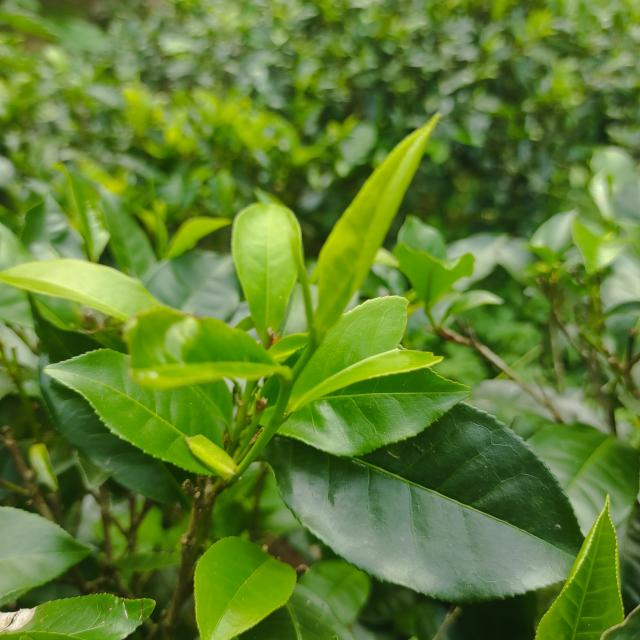unopened_leaf: (282, 228, 325, 351)
